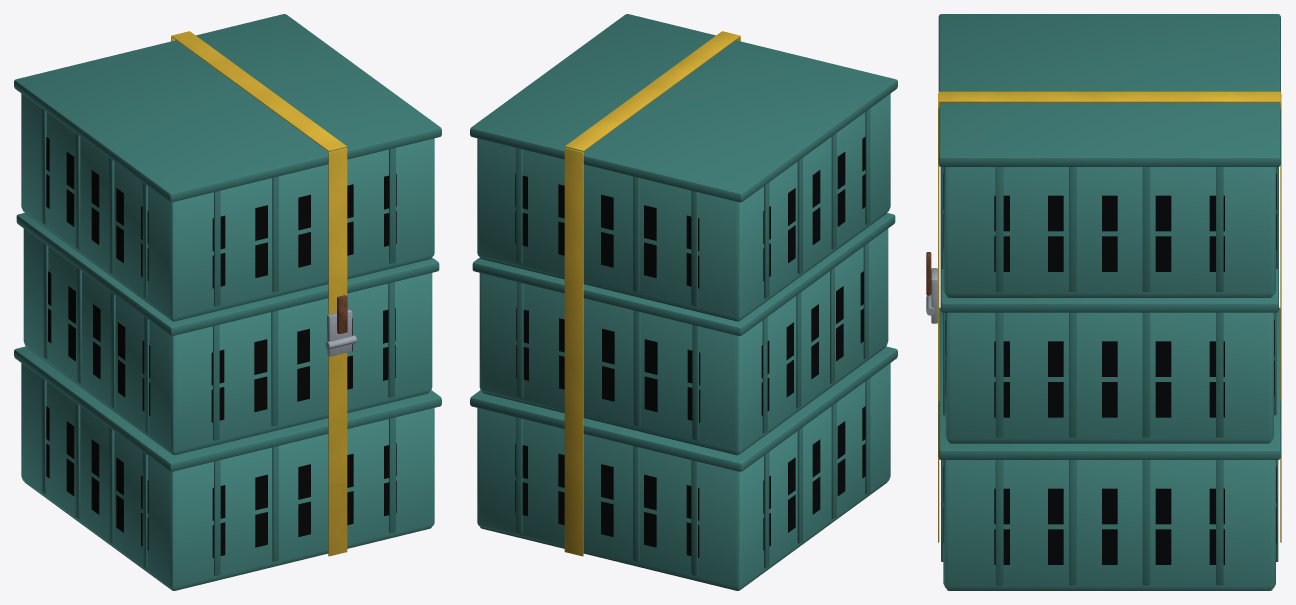
Rendered from stacked_crates.glb.
The picture shows the model from 3 angles, left to right: view 1: azimuth 30°, elevation 25°; view 2: azimuth 150°, elevation 25°; view 3: azimuth 270°, elevation 25°; orthographic projection. The views are drawn at different scales.
Visible parts, largest first — view 1: StackedCratesBody; view 2: StackedCratesBody; view 3: StackedCratesBody.
Part boxes in pixels (box(x1,y1,x2,y2)): StackedCratesBody: box(14, 14, 441, 590); StackedCratesBody: box(470, 14, 897, 590); StackedCratesBody: box(926, 14, 1281, 590).
Bounding box in the file's own units: 0.7 × 1 × 0.7265.
6 materials, 3 textured.
